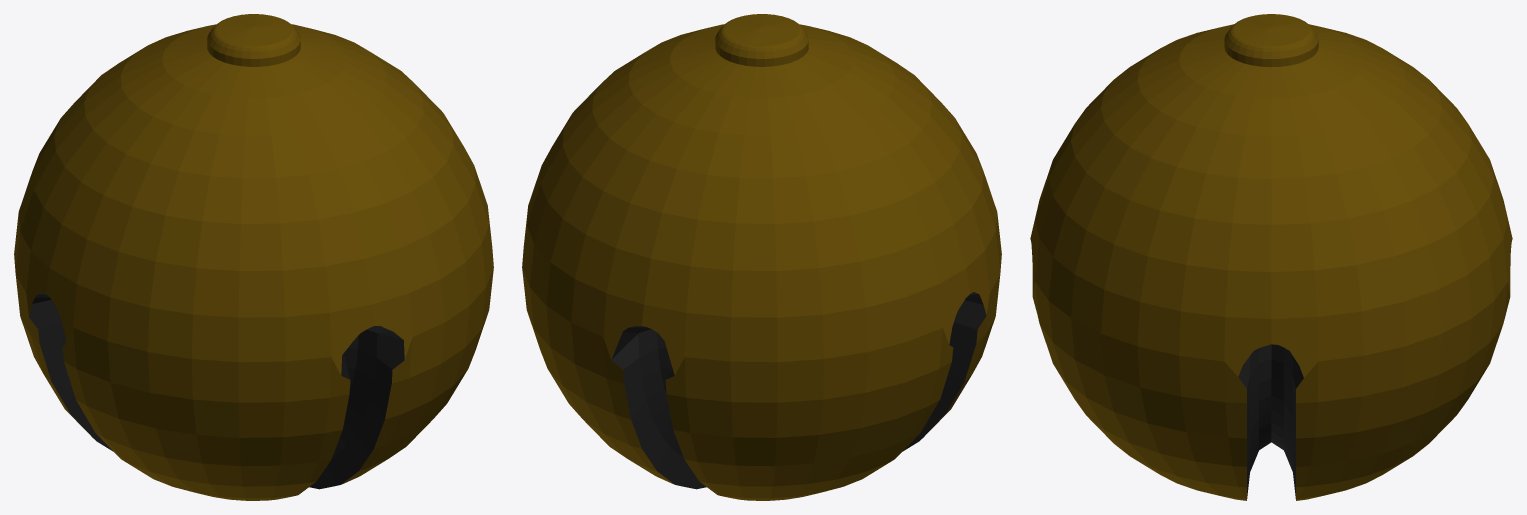
File: PLayerBell.fbx
3 views of the same model, side by side, from view 1: azimuth 30°, elevation 25°; view 2: azimuth 150°, elevation 25°; view 3: azimuth 270°, elevation 25° (orthographic).
Parts seen in each view (by area): view 1: Sphere; view 2: Sphere; view 3: Sphere.
Boxes of the visible parts, x1=… form: Sphere: x1=14, y1=14, x2=493, y2=500; Sphere: x1=522, y1=14, x2=1001, y2=500; Sphere: x1=1030, y1=14, x2=1512, y2=500.
Size of the model in its own units: 200 by 206 by 200.
